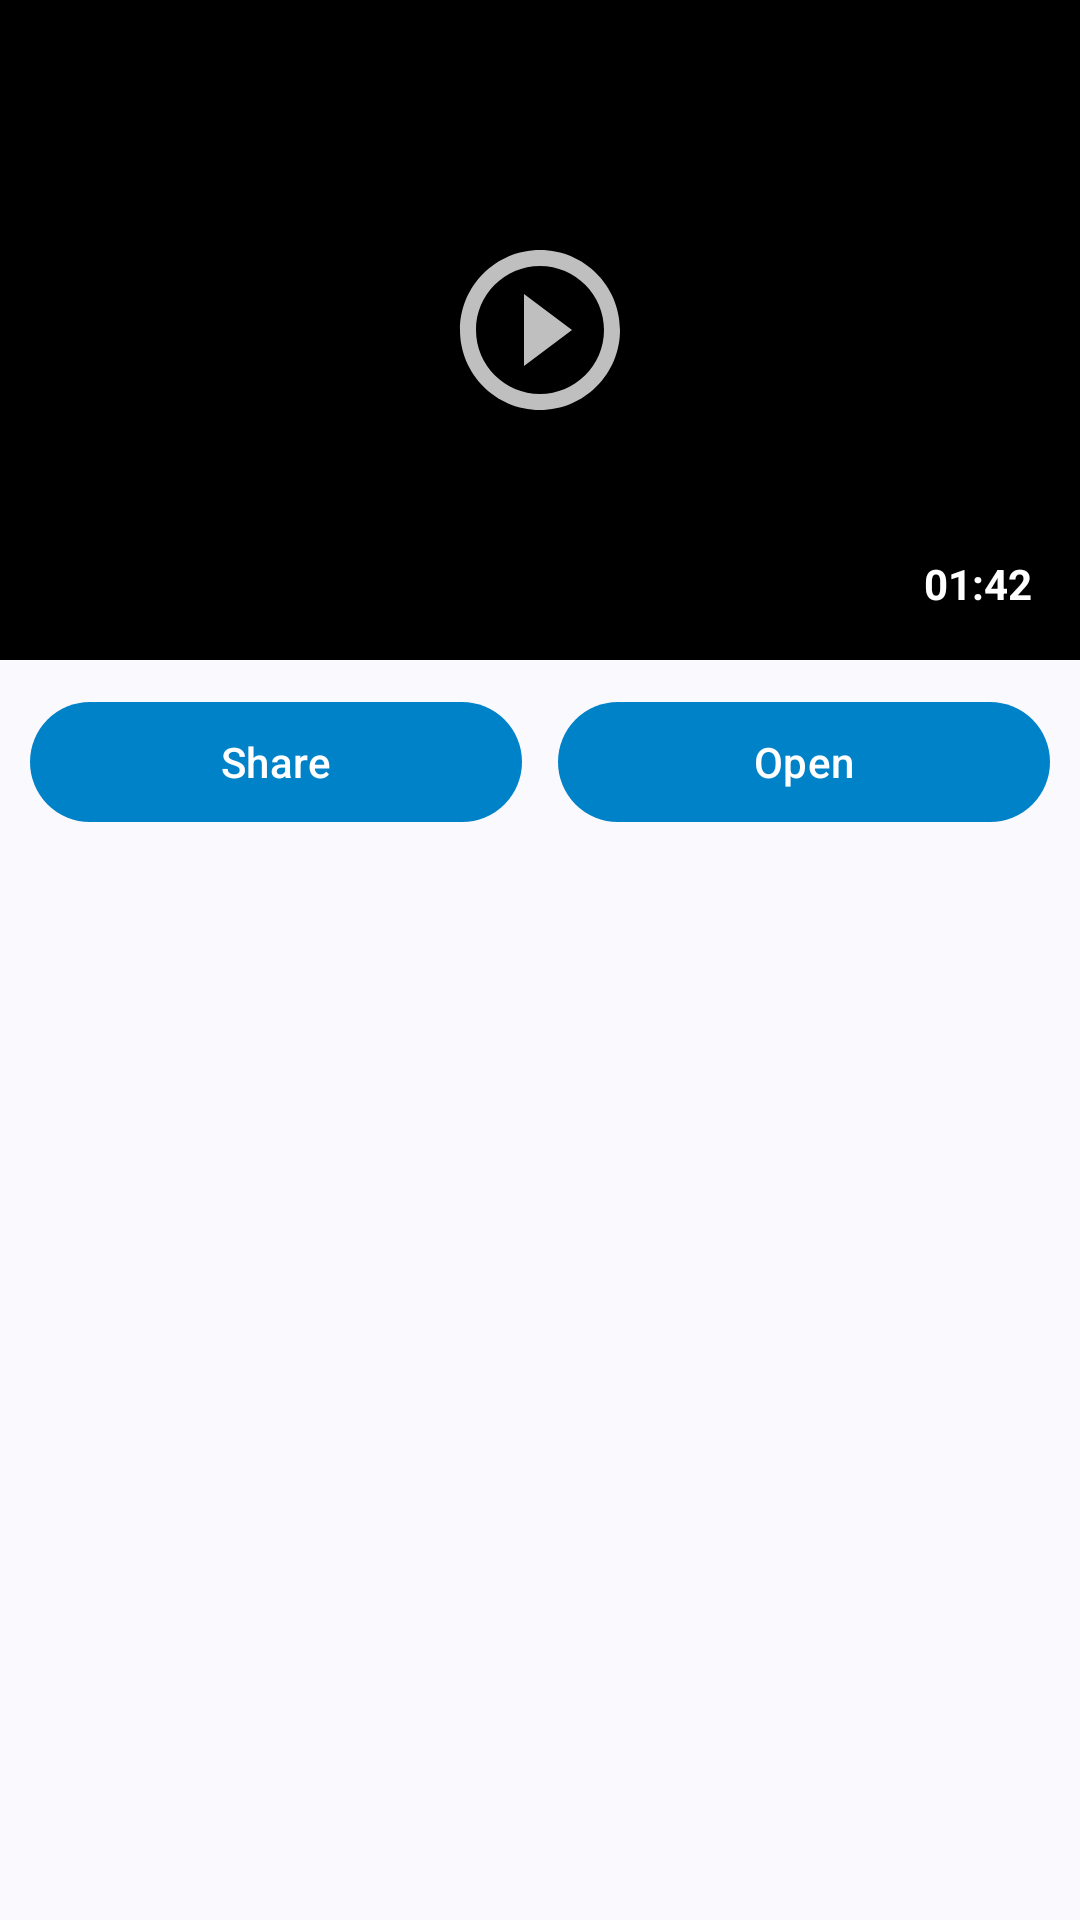

Where icons sit on this 1080*1920 app screen, as bbox=(x1, y1, x2, y2):
play: bbox=(460, 250, 620, 410)
